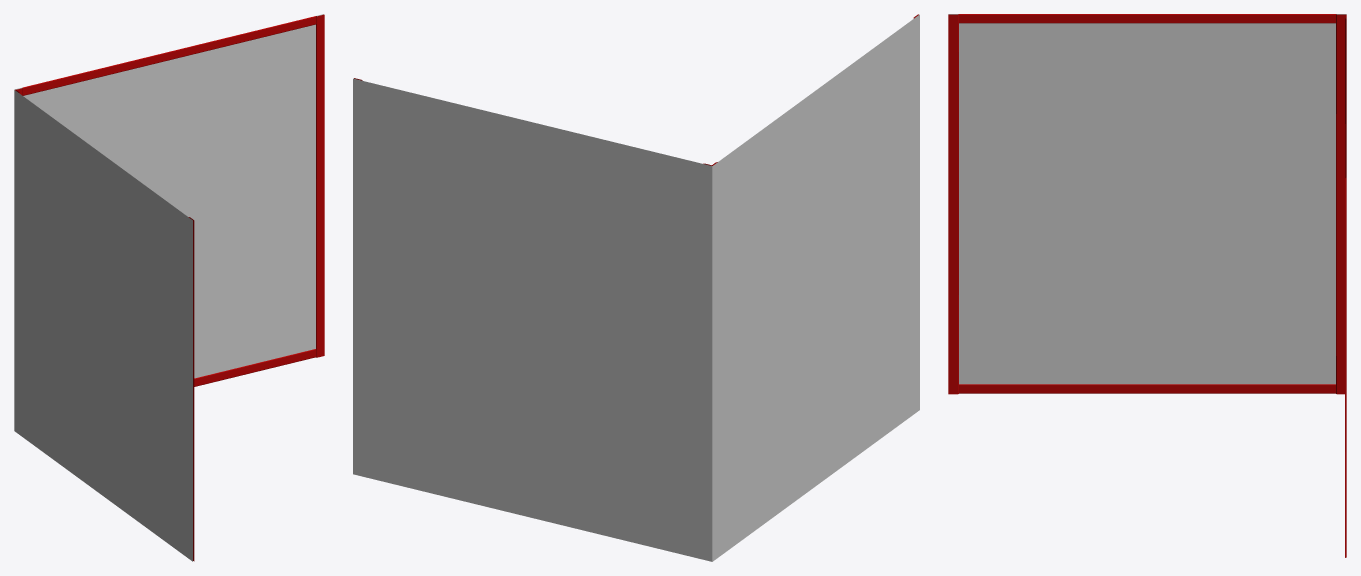
The model's file is Wall02CornerIntTop.fbx.
3 renders of one model, left to right at view 1: azimuth 30°, elevation 25°; view 2: azimuth 150°, elevation 25°; view 3: azimuth 270°, elevation 25°, orthographic. The views are drawn at different scales.
Visible parts, largest first — view 1: Wall02CornerIntTop; view 2: Wall02CornerIntTop; view 3: Wall02CornerIntTop.
Part boxes in pixels (<box>): Wall02CornerIntTop: <box>14,14,324,561</box>; Wall02CornerIntTop: <box>353,14,919,561</box>; Wall02CornerIntTop: <box>948,14,1346,557</box>.
Size of the model in its own units: 95 by 100 by 95.
